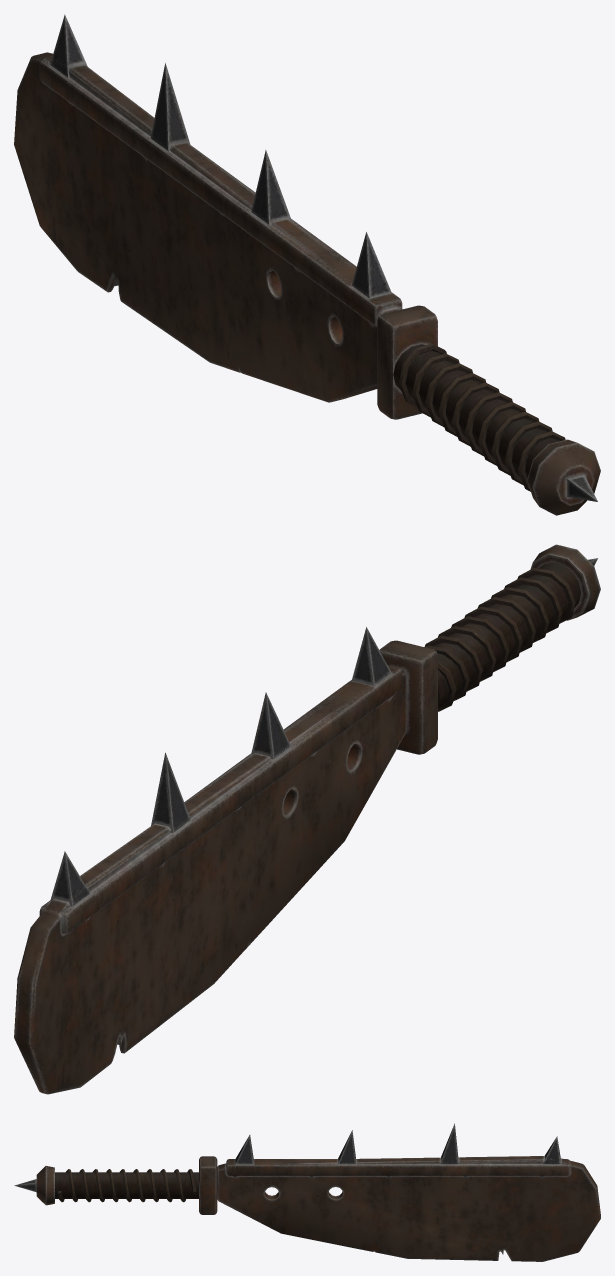
Rendered from gunner_cleaver.glb.
The picture shows the model from 3 angles, top to bottom: view 1: azimuth 30°, elevation 25°; view 2: azimuth 150°, elevation 25°; view 3: azimuth 270°, elevation 25°; orthographic projection. The views are drawn at different scales.
Parts seen in each view (by area): view 1: gunner_cleaver; view 2: gunner_cleaver; view 3: gunner_cleaver.
Part boxes in pixels (x1=…): gunner_cleaver: x1=14, y1=14, x2=600, y2=515; gunner_cleaver: x1=14, y1=544, x2=600, y2=1094; gunner_cleaver: x1=14, y1=1123, x2=600, y2=1261.
Bounding box in the file's own units: 0.044 × 0.1678 × 0.644.
1 material, 1 textured.
